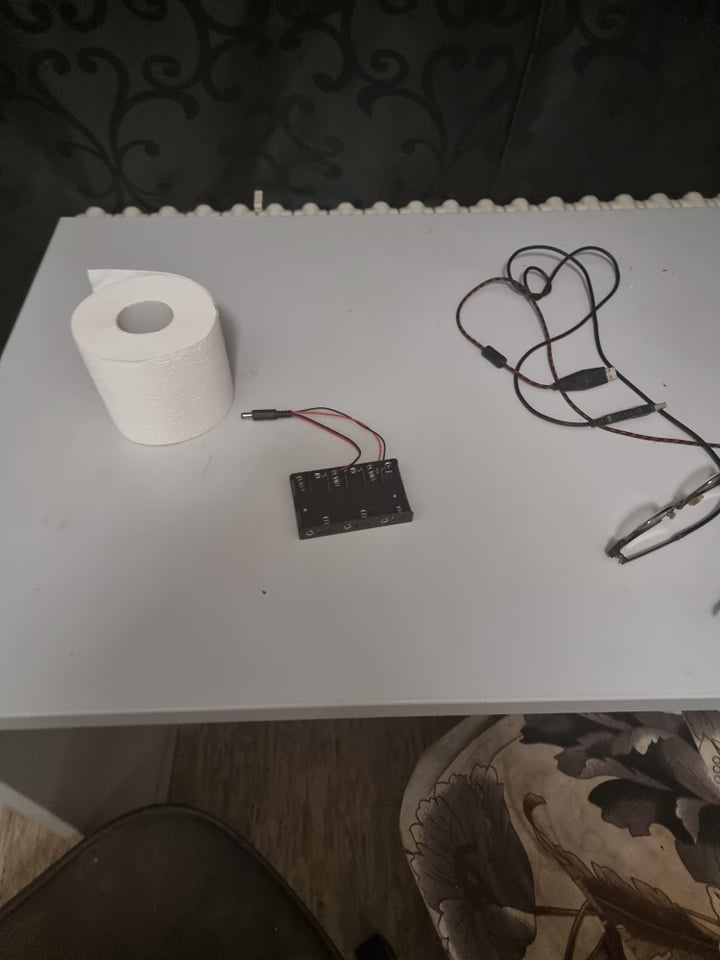BATTERY BOX: (281, 462, 417, 541)
